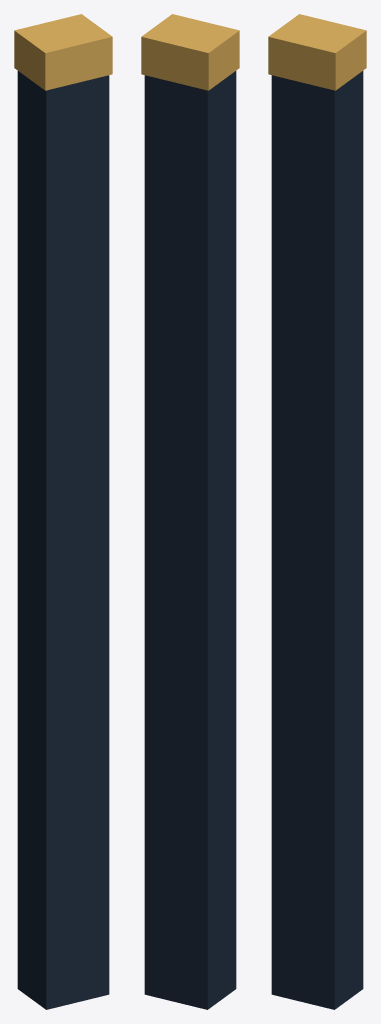
File: samurai-saya.glb
The picture shows the model from 3 angles, left to right: view 1: azimuth 30°, elevation 25°; view 2: azimuth 150°, elevation 25°; view 3: azimuth 330°, elevation 25°; orthographic projection.
Visible parts, largest first — view 1: Scabbard, Collar; view 2: Scabbard, Collar; view 3: Scabbard, Collar.
Part boxes in pixels (box(x1,y1,x2,y2)): Scabbard: box(17, 71, 109, 1009); Collar: box(14, 14, 112, 90); Scabbard: box(144, 71, 236, 1009); Collar: box(141, 14, 239, 90); Scabbard: box(271, 71, 363, 1009); Collar: box(268, 14, 366, 90).
Size of the model in its own units: 0.075 by 1.02 by 0.06.
